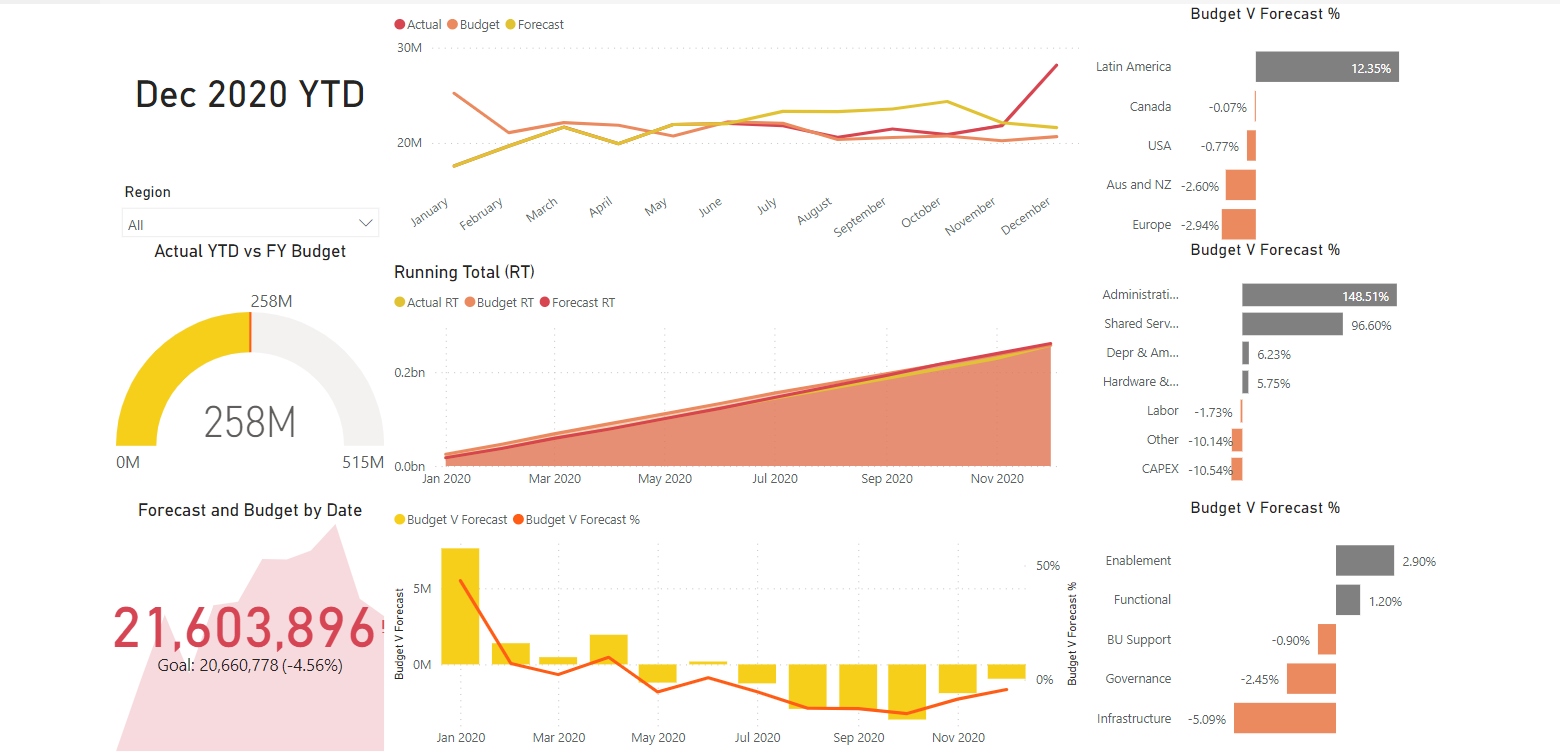

What the dashboard file says about the page in this screenshot:
{"tool":"powerbi","page":{"name":"Headline","canvas":[1280,720],"ordinal":0},"visuals":[{"type":"gauge","title":"Actual YTD vs FY Budget","fields":{"Y":["Sum(Actuals.Actual)"],"TargetValue":["Sum(Budget.Budget)"]},"box":[0,226.4,266.2,247],"z":0},{"type":"kpi","title":"Forecast and Budget by Date","fields":{"TrendLine":["Calendar.Date"],"Indicator":["Sum(Forecast.Forecast)"],"Goal":["Sum(Budget.Budget)"]},"box":[0,473.4,266.2,247],"z":1000},{"type":"lineChart","title":"Actual, Budget and Forecast by Year, Quarter and Month","fields":{"Category":["Calendar.Date.Variation.Date Hierarchy.Year","Calendar.Date.Variation.Date Hierarchy.Quarter","Calendar.Date.Variation.Date Hierarchy.Month"],"Y":["Sum(Actuals.Actual)","Sum(Budget.Budget)","Sum(Forecast.Forecast)"]},"box":[266.2,0,665.5,247],"z":2000},{"type":"areaChart","title":"Running Total (RT)","fields":{"Y":["Actuals.Actual RT","Budget.Budget RT","Forecast.Forecast RT"],"Category":["Calendar.Date.Variation.Date Hierarchy.Year","Calendar.Date.Variation.Date Hierarchy.Quarter","Calendar.Date.Variation.Date Hierarchy.Month"]},"box":[265.3,246.9,665,226.1],"z":3000},{"type":"lineClusteredColumnComboChart","fields":{"Category":["Calendar.Date"],"Y":["Budget.Budget V Forecast"],"Y2":["Budget.Budget V Forecast %"]},"box":[266.2,473.4,665.5,247],"z":4000},{"type":"clusteredBarChart","title":"Budget V Forecast %","fields":{"Category":["Regions.Region"],"Y":["Budget.Budget V Forecast %"]},"box":[931.5,0,348.4,246.9],"z":5000},{"type":"clusteredBarChart","title":"Budget V Forecast %","fields":{"Y":["Budget.Budget V Forecast %"],"Category":["CostElements.Cost Element Group"]},"box":[931.5,226.1,348.4,246.9],"z":6000},{"type":"clusteredBarChart","title":"Budget V Forecast %","fields":{"Y":["Budget.Budget V Forecast %"],"Category":["Departments.IT Area"]},"box":[931.5,473.1,348.4,246.9],"z":7000},{"type":"slicer","fields":{"Values":["Regions.Region"]},"box":[0,166.2,266.5,59.9],"z":8000},{"type":"card","fields":{"Values":["Actuals.YTD Month"]},"box":[0,0,266,166],"z":9000}]}

Visuals, with their boxes on the page's 1280x720 design canvas (x1, y1, x2, y2). These are canvas units, not pixel positions in the 1560x755 screenshot, which may show the page scaled, cropped or inside an application window:
"Actual YTD vs FY Budget" gauge: [0, 226, 266, 473]
"Forecast and Budget by Date" kpi: [0, 473, 266, 720]
"Actual, Budget and Forecast by Year, Quarter and Month" lineChart: [266, 0, 932, 247]
"Running Total (RT)" areaChart: [265, 247, 930, 473]
lineClusteredColumnComboChart - Calendar.Date x Budget.Budget V Forecast: [266, 473, 932, 720]
"Budget V Forecast %" clusteredBarChart: [932, 0, 1280, 247]
"Budget V Forecast %" clusteredBarChart: [932, 226, 1280, 473]
"Budget V Forecast %" clusteredBarChart: [932, 473, 1280, 720]
slicer - Regions.Region: [0, 166, 266, 226]
card - Actuals.YTD Month: [0, 0, 266, 166]
